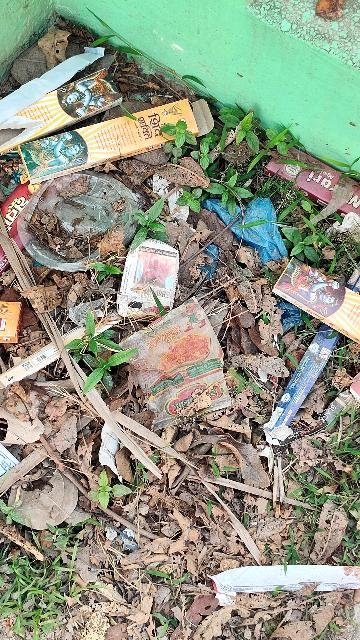packet: (111, 297, 246, 426)
